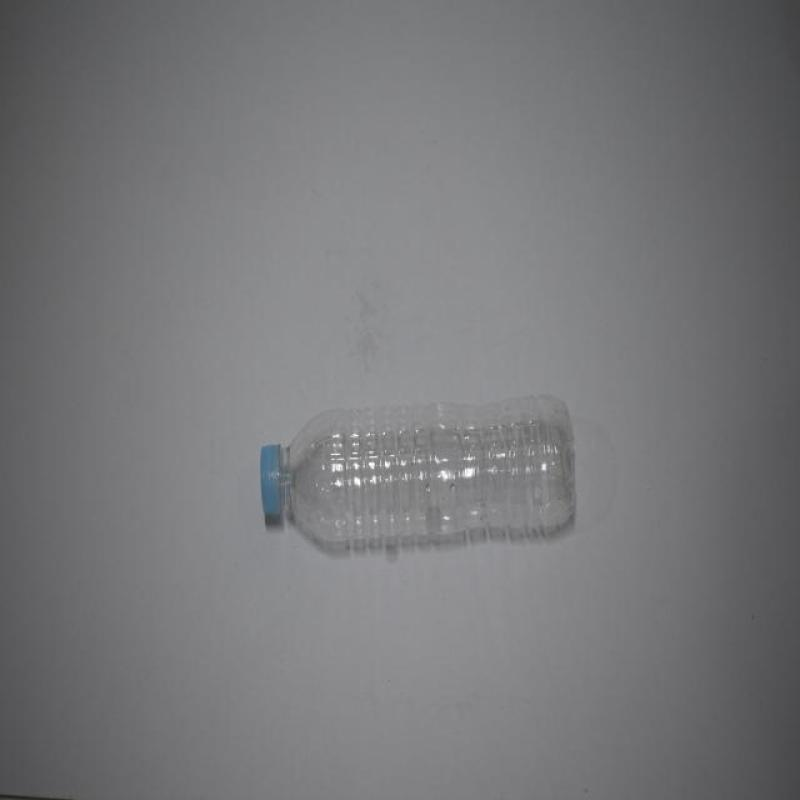botella: (262, 397, 582, 554)
